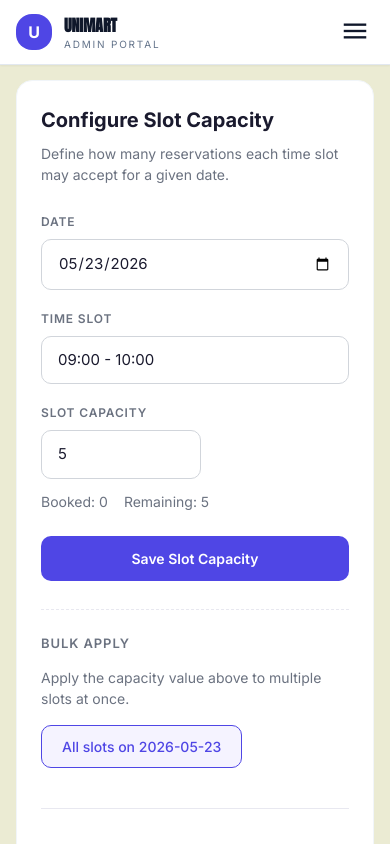
Test: Mobile navigation › clicking mobile menu toggle opens navigation
Click the button named "Toggle navigation".
click(355, 32)  # box [336,8,374,56]
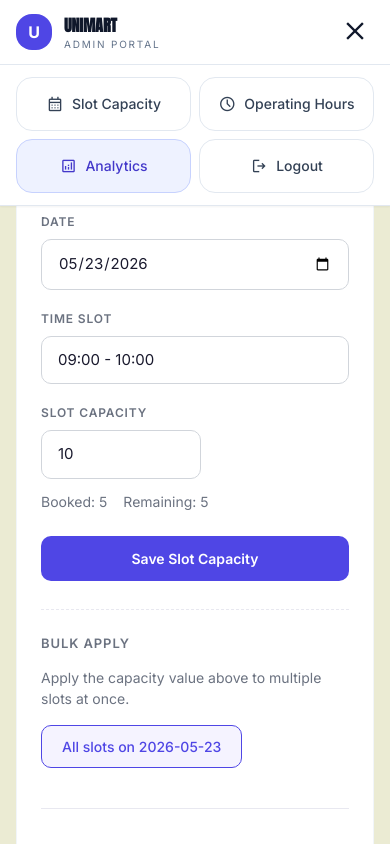
Expected: the navigation bar named "Mobile dashboard navigation" is shown, [0,64,389,205]
